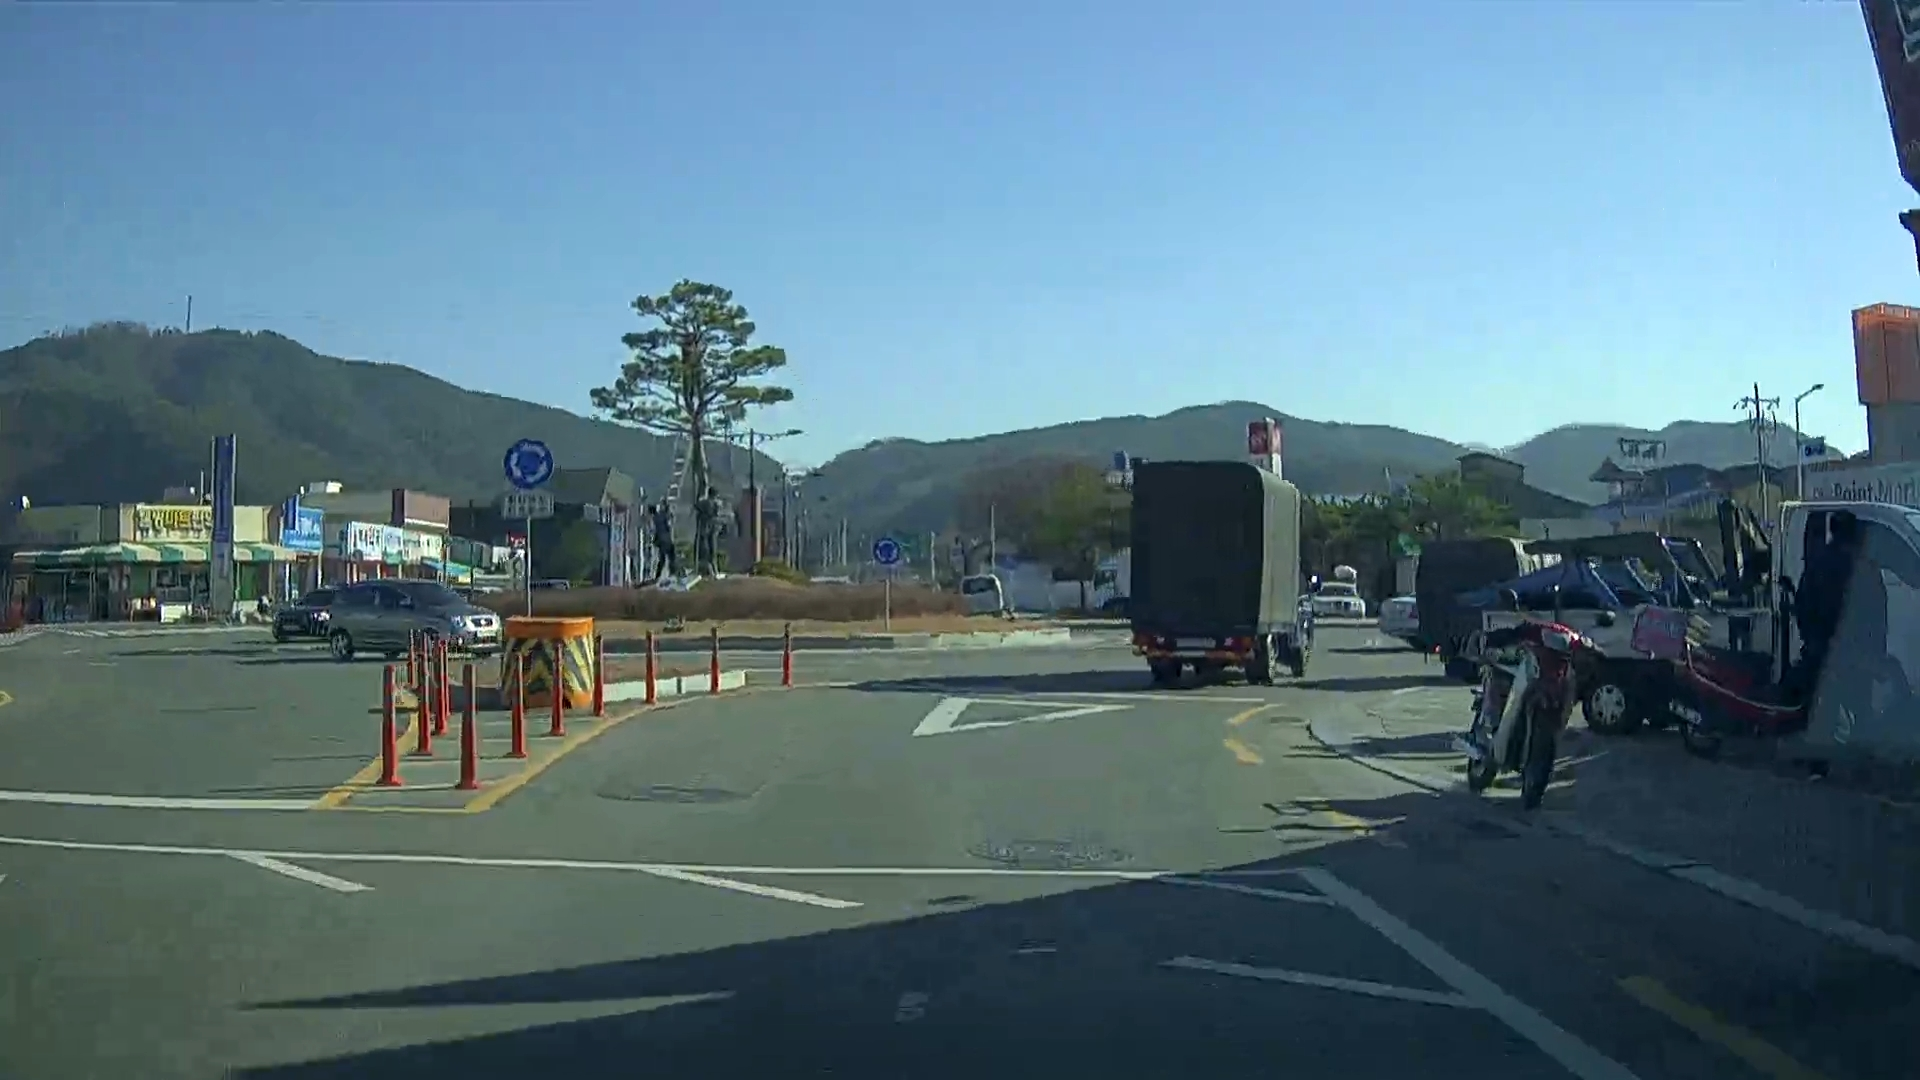trafficSignCircle: (498, 440, 553, 495), (873, 531, 905, 566)
